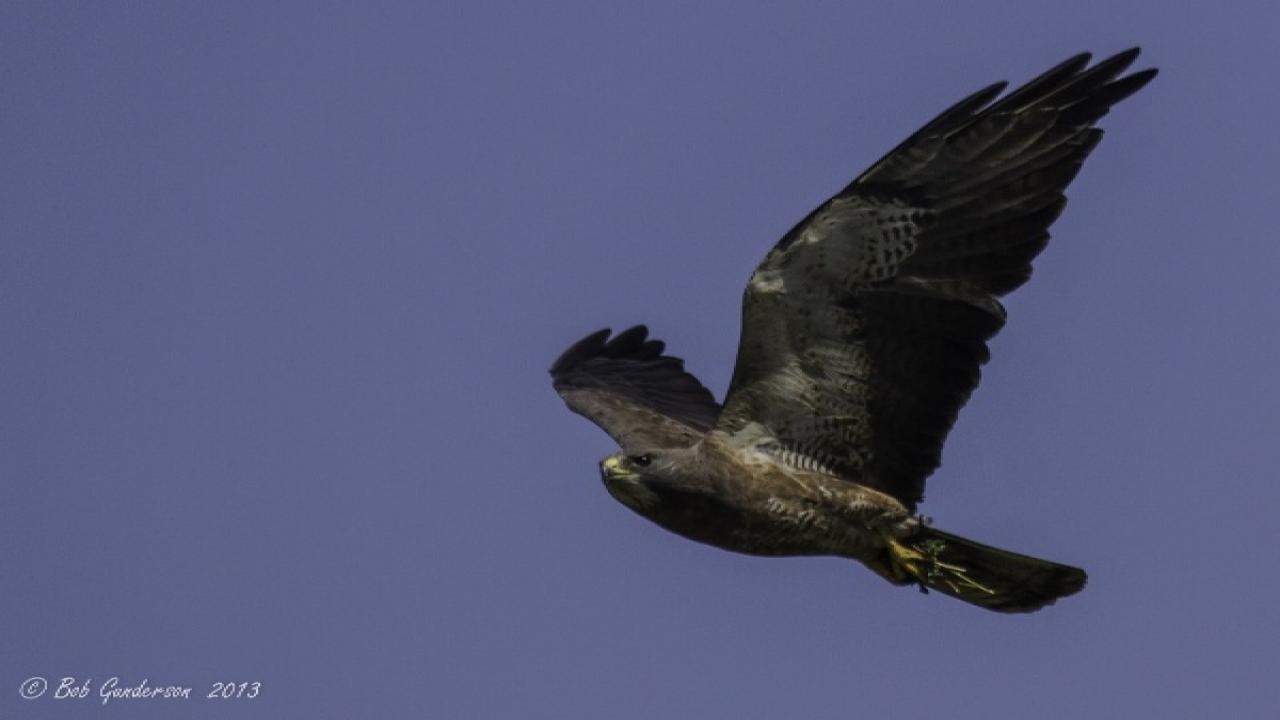Bird: (538, 36, 1176, 626)
